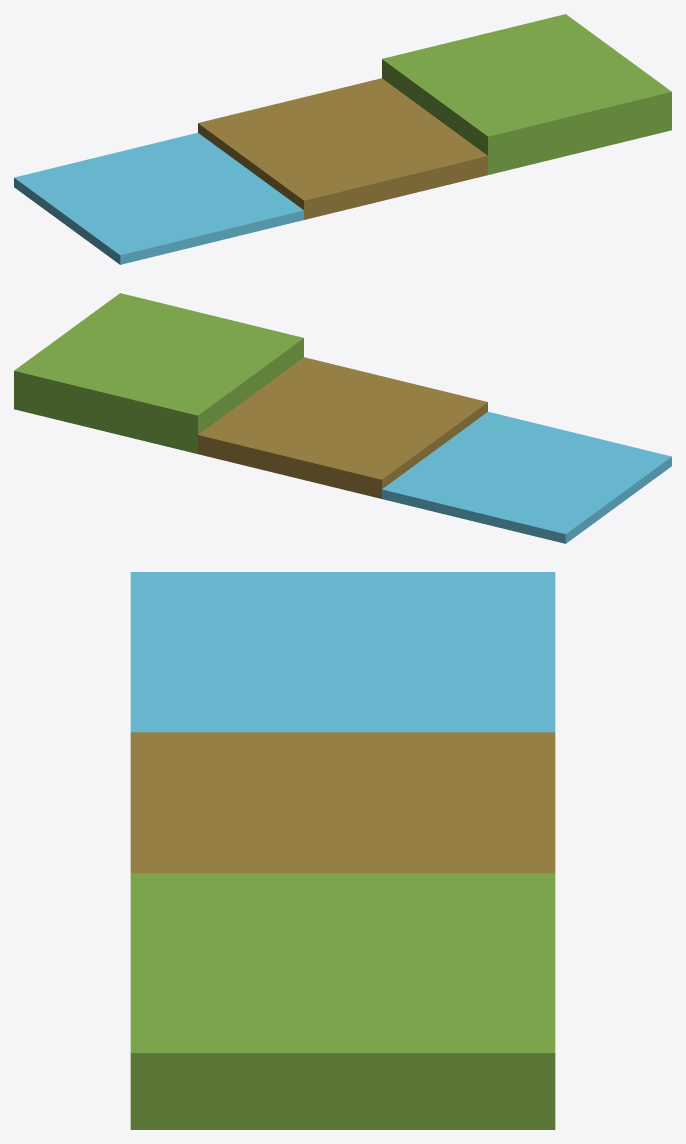
File: base_tiles.fbx
3 renders of one model, top to bottom at view 1: azimuth 30°, elevation 25°; view 2: azimuth 150°, elevation 25°; view 3: azimuth 270°, elevation 25°, orthographic. The views are drawn at different scales.
Parts seen in each view (by area): view 1: Grass_Base, Dirt_Base, Water_Base; view 2: Grass_Base, Dirt_Base, Water_Base; view 3: Grass_Base, Water_Base, Dirt_Base.
Boxes of the visible parts, x1,y1,x2,y2 form: Grass_Base: (382,14,671,174); Dirt_Base: (198,78,487,219); Water_Base: (14,132,303,264); Grass_Base: (14,293,303,453); Dirt_Base: (198,357,487,498); Water_Base: (382,411,671,543); Grass_Base: (130,873,555,1129); Water_Base: (130,572,555,732); Dirt_Base: (130,732,555,873).
Size of the model in its own units: 3 by 1 by 0.2.
